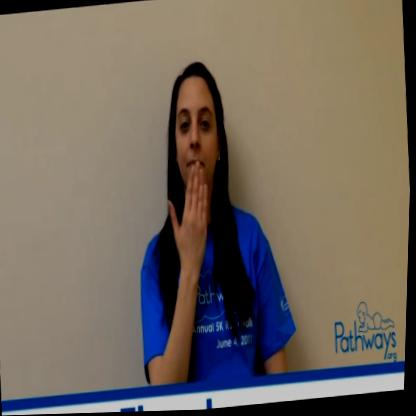ThankYou: (143, 48, 267, 324)
